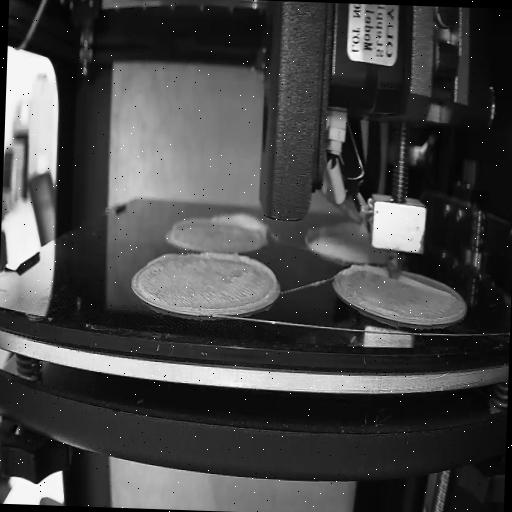over_extrusion: (191, 250, 279, 317), (208, 210, 272, 243), (398, 272, 457, 300), (146, 248, 182, 270), (172, 214, 206, 230), (348, 262, 388, 275)
